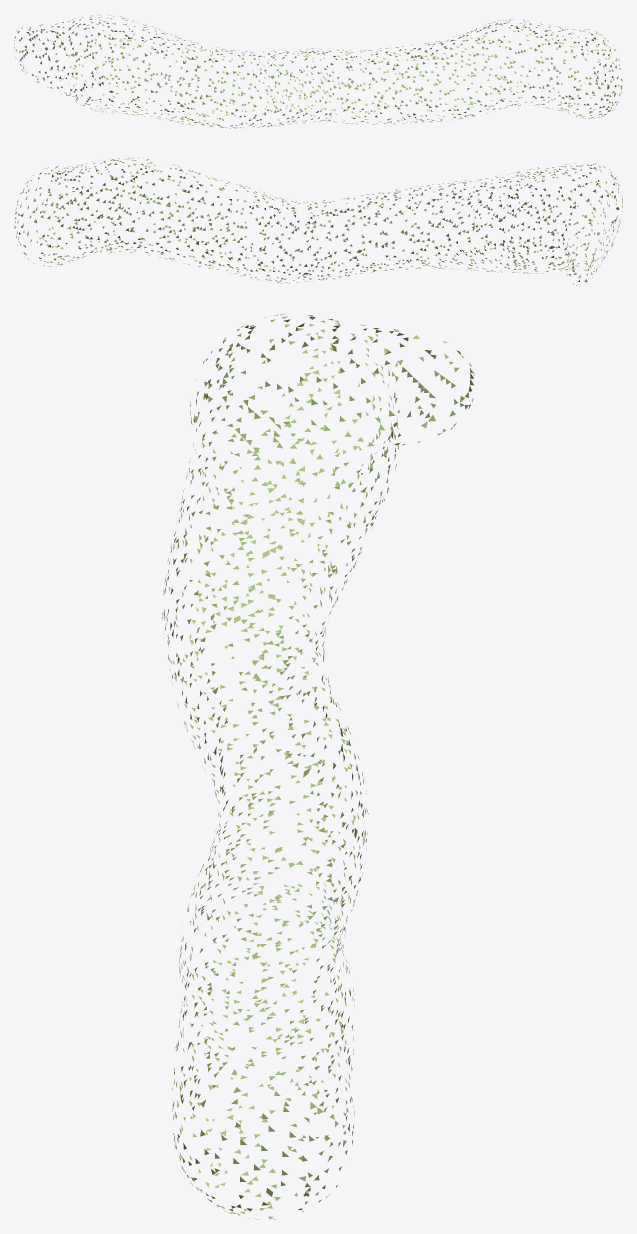
The model's file is morph_012.glb.
3 renders of one model, top to bottom at view 1: azimuth 30°, elevation 25°; view 2: azimuth 150°, elevation 25°; view 3: azimuth 270°, elevation 25°, orthographic. The views are drawn at different scales.
Size of the model in its own units: 133 by 48.41 by 32.88.
